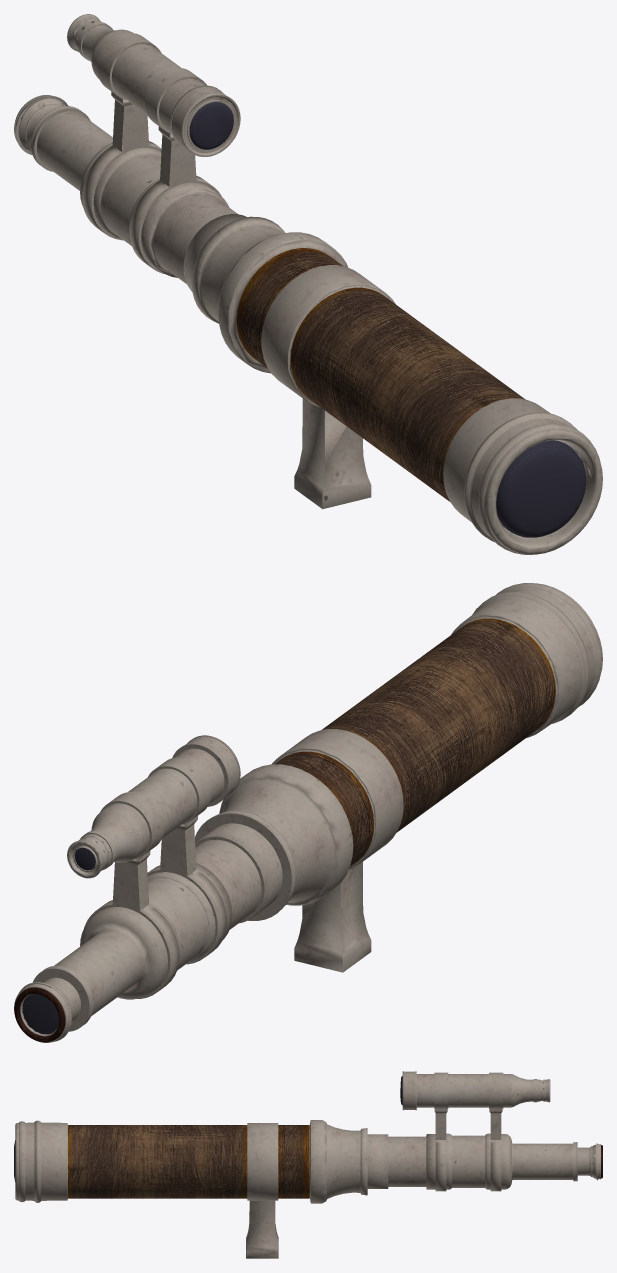
Rendered from mdl_hub_vintagetelescope.gltf.
3 views of the same model, one above another, from view 1: azimuth 30°, elevation 25°; view 2: azimuth 150°, elevation 25°; view 3: azimuth 270°, elevation 25° (orthographic). The views are drawn at different scales.
Parts seen in each view (by area): view 1: Telescope_0; view 2: Telescope_0; view 3: Telescope_0.
Part boxes in pixels (left/top/right/bottom): Telescope_0: left=14, top=14, right=602, bottom=554; Telescope_0: left=14, top=583, right=602, bottom=1042; Telescope_0: left=14, top=1071, right=602, bottom=1258.
Size of the model in its own units: 0.2137 by 0.5035 by 1.5.
